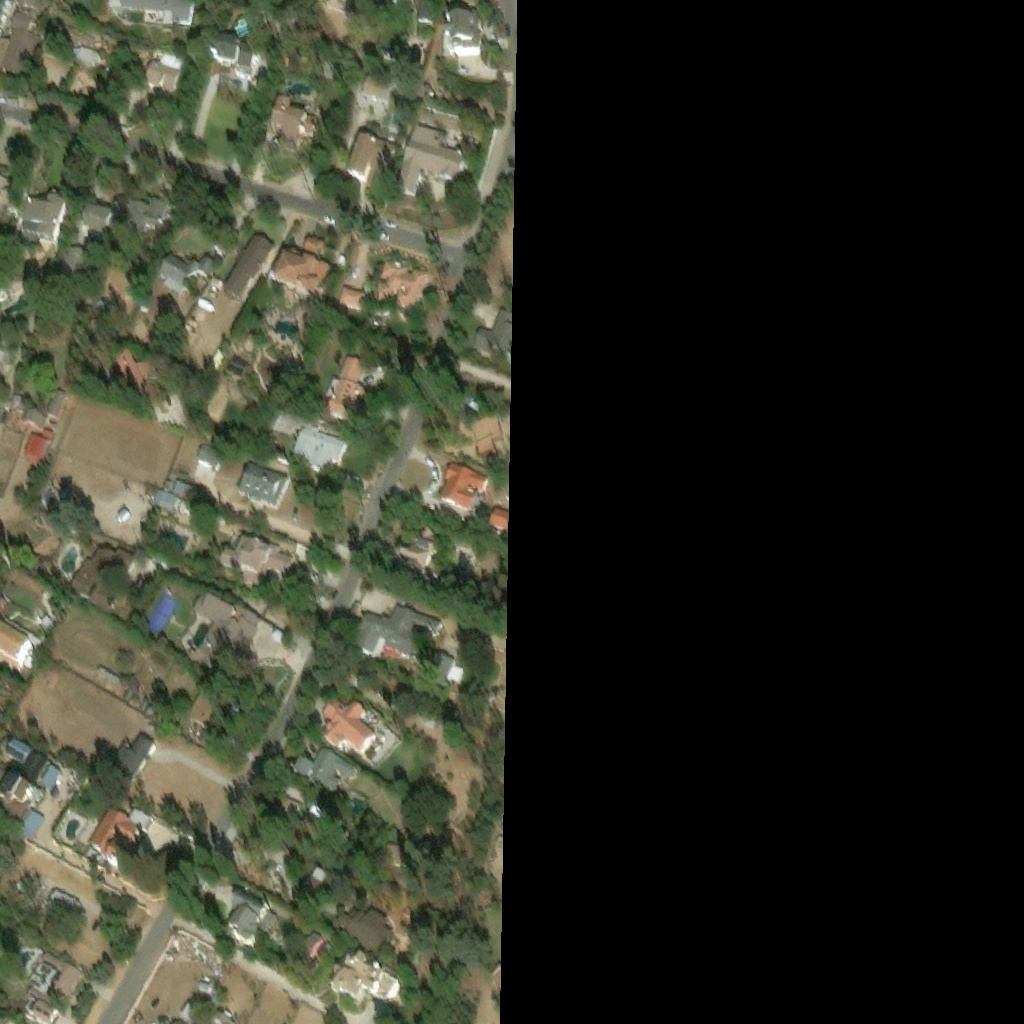0 no-damage: (345, 599, 455, 686), (393, 121, 476, 201), (186, 592, 264, 676), (70, 545, 136, 610), (25, 952, 85, 1023), (217, 536, 295, 590), (330, 951, 401, 1009), (275, 234, 335, 297), (89, 809, 147, 872), (222, 230, 274, 300), (293, 750, 360, 801), (225, 894, 281, 952), (290, 422, 345, 481), (393, 521, 450, 577), (323, 355, 368, 425), (321, 698, 377, 753), (371, 255, 429, 308), (105, 0, 195, 33), (338, 913, 398, 962), (234, 460, 290, 509), (344, 130, 395, 181), (438, 457, 486, 510), (108, 731, 155, 785), (157, 249, 214, 293), (18, 193, 66, 241), (0, 775, 45, 826), (115, 349, 157, 401), (269, 95, 315, 142), (445, 11, 490, 55), (472, 303, 510, 354), (214, 37, 261, 76), (122, 195, 169, 232), (59, 244, 97, 287), (147, 61, 184, 97), (81, 203, 113, 238), (303, 868, 335, 902), (48, 891, 82, 921), (299, 936, 328, 969), (172, 477, 206, 503), (293, 1004, 338, 1023), (151, 486, 181, 514), (361, 69, 389, 99), (14, 571, 46, 596), (72, 42, 105, 66), (46, 387, 71, 418), (0, 164, 16, 211), (24, 431, 49, 461), (485, 503, 506, 531), (22, 408, 48, 430), (180, 1003, 208, 1023), (196, 442, 218, 465), (414, 0, 435, 21), (0, 345, 13, 376), (315, 0, 350, 11)
